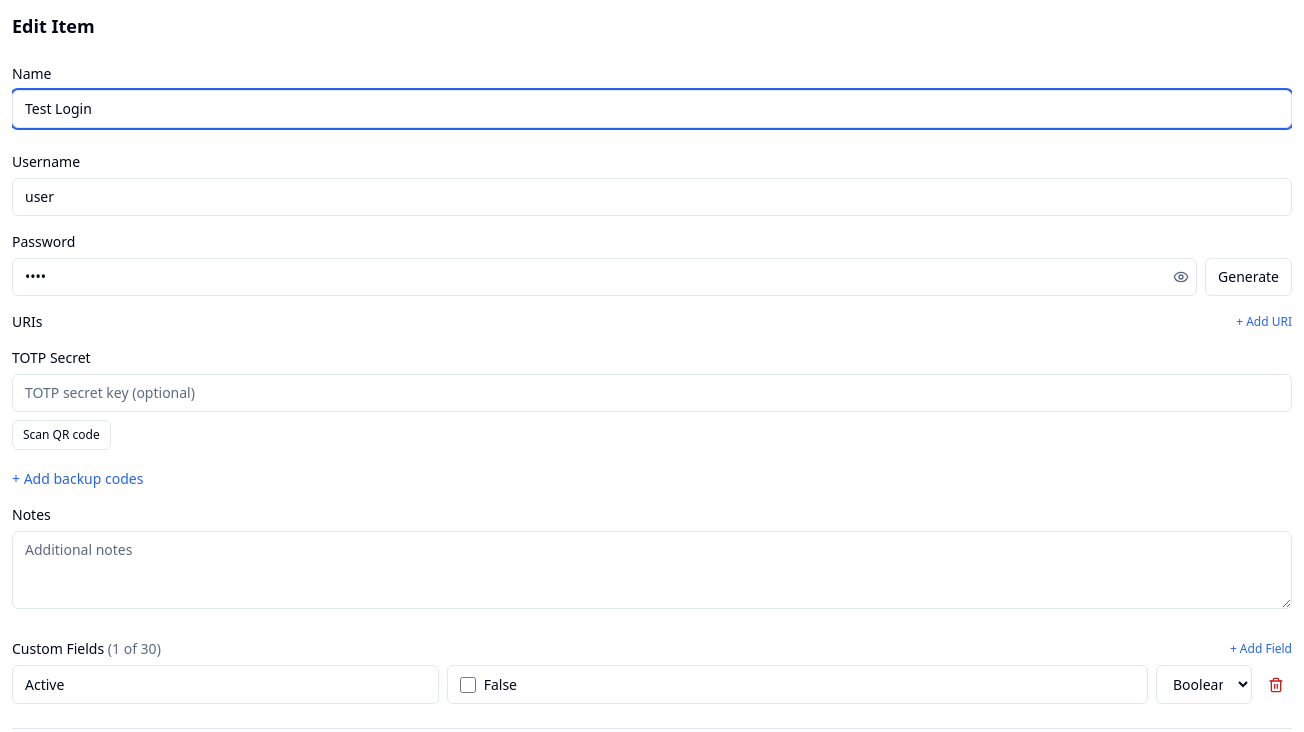
Test case: Phase 8.1: VaultItemForm boolean custom field › toggling the boolean custom field checkbox updates value display
Expected: the text "False" is shown, left=484, top=674, right=517, bottom=694
Click the checkbox to toggle it
Click the checkbox. click: coordinates (468, 684)
box: left=460, top=676, right=476, bottom=692
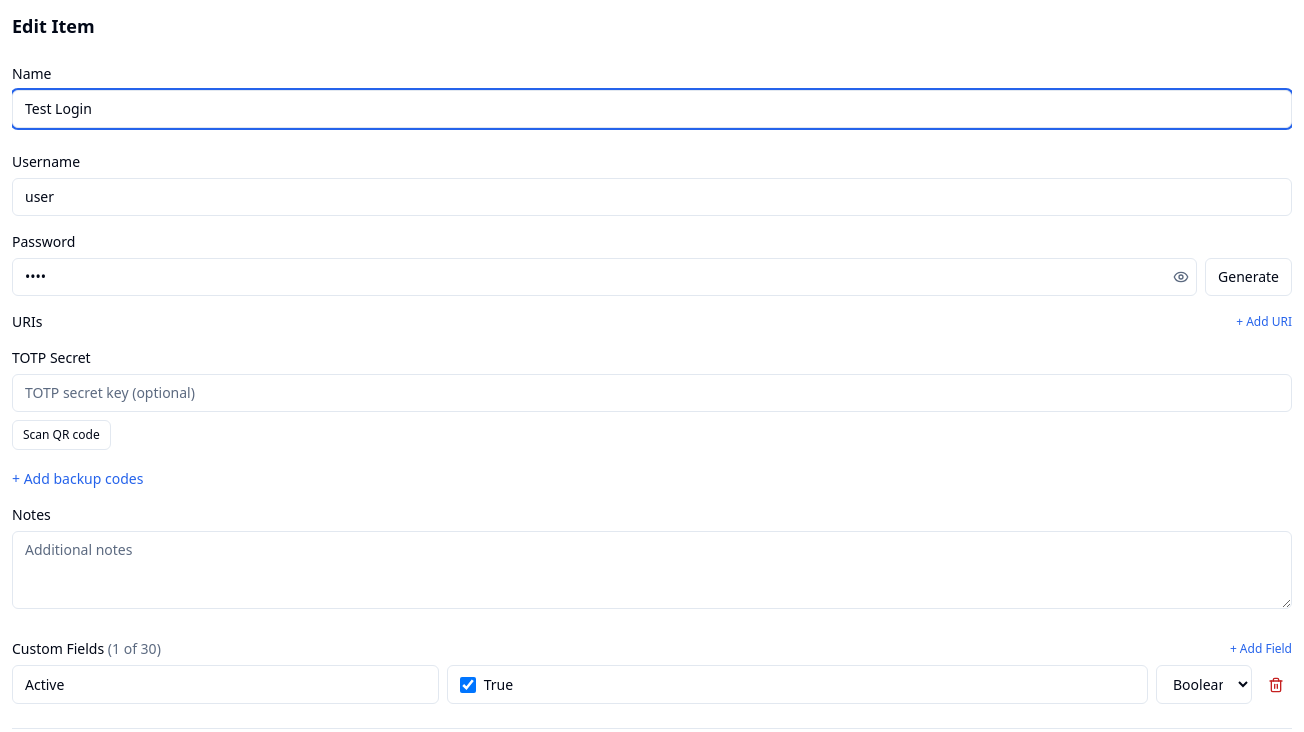
Expected: the text "True" is shown, left=484, top=674, right=513, bottom=694
